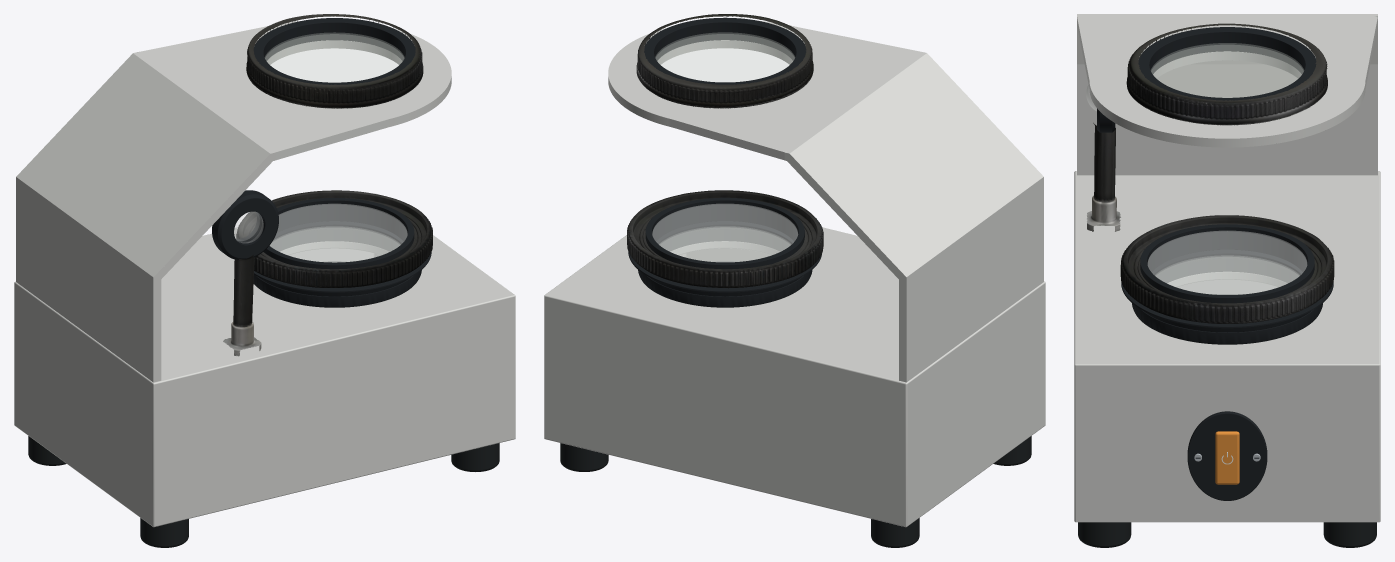
Rendered from repaired.glb.
3 renders of one model, left to right at view 1: azimuth 30°, elevation 25°; view 2: azimuth 150°, elevation 25°; view 3: azimuth 270°, elevation 25°, orthographic. The views are drawn at different scales.
Visible parts, largest first — view 1: Base_clean_powder_coat, Frame_continuous_folded_shell, Stage_clear_sample_support, Tripo_stage_grip_detail, Stage_regular_open_body, Tripo_analyzer_grip_detail, Analyzer_independent_glass, Analyzer_regular_open_body, Base_top_open_light_port, Fixed_lower_polarizer_glass, Conoscope_regular_open_ring, Tripo_retained_conoscope_handle (+4 smaller); view 2: Base_clean_powder_coat, Frame_continuous_folded_shell, Tripo_stage_grip_detail, Stage_clear_sample_support, Stage_regular_open_body, Analyzer_independent_glass, Tripo_analyzer_grip_detail, Analyzer_regular_open_body, Base_top_open_light_port, Fixed_lower_polarizer_glass, Fixed_polarizer_open_seat, Foot_regular_rubber.001 (+1 smaller); view 3: Base_clean_powder_coat, Frame_continuous_folded_shell, Stage_clear_sample_support, Tripo_stage_grip_detail, Stage_regular_open_body, Tripo_analyzer_grip_detail, Analyzer_independent_glass, Analyzer_regular_open_body, Side_power_switch_bezel, Base_top_open_light_port, Fixed_lower_polarizer_glass, Tripo_retained_conoscope_handle (+4 smaller).
Boxes of the visible parts, x1,y1,x2,y2 form: Base_clean_powder_coat: (14, 193, 515, 527); Frame_continuous_folded_shell: (16, 21, 451, 382); Stage_clear_sample_support: (270, 204, 407, 262); Tripo_stage_grip_detail: (236, 190, 432, 287); Stage_regular_open_body: (254, 198, 431, 292); Tripo_analyzer_grip_detail: (246, 14, 423, 108); Analyzer_independent_glass: (265, 32, 404, 82); Analyzer_regular_open_body: (253, 18, 415, 84); Base_top_open_light_port: (253, 229, 421, 307); Fixed_lower_polarizer_glass: (270, 227, 399, 262); Conoscope_regular_open_ring: (212, 190, 278, 260); Tripo_retained_conoscope_handle: (223, 255, 261, 356); Base_clean_powder_coat: (544, 193, 1045, 527); Frame_continuous_folded_shell: (608, 21, 1043, 382); Tripo_stage_grip_detail: (627, 190, 823, 288); Stage_clear_sample_support: (652, 204, 797, 261); Stage_regular_open_body: (628, 197, 821, 292); Analyzer_independent_glass: (655, 32, 794, 82); Tripo_analyzer_grip_detail: (636, 14, 813, 108); Analyzer_regular_open_body: (644, 17, 806, 84); Base_top_open_light_port: (638, 229, 812, 307); Fixed_lower_polarizer_glass: (659, 227, 790, 261); Fixed_polarizer_open_seat: (649, 221, 801, 296); Foot_regular_rubber.001: (871, 518, 919, 547); Base_clean_powder_coat: (1074, 171, 1380, 522); Frame_continuous_folded_shell: (1077, 14, 1377, 175); Stage_clear_sample_support: (1148, 230, 1306, 294); Tripo_stage_grip_detail: (1120, 215, 1334, 323); Stage_regular_open_body: (1121, 224, 1333, 328); Tripo_analyzer_grip_detail: (1126, 23, 1327, 125); Analyzer_independent_glass: (1151, 43, 1303, 97); Analyzer_regular_open_body: (1138, 27, 1316, 100); Side_power_switch_bezel: (1187, 411, 1267, 500); Base_top_open_light_port: (1132, 259, 1322, 344); Fixed_lower_polarizer_glass: (1155, 256, 1299, 294); Tripo_retained_conoscope_handle: (1087, 123, 1120, 231).
Size of the model in its own units: 0.9599 by 0.9727 by 0.628.
11 materials, 2 textured.
